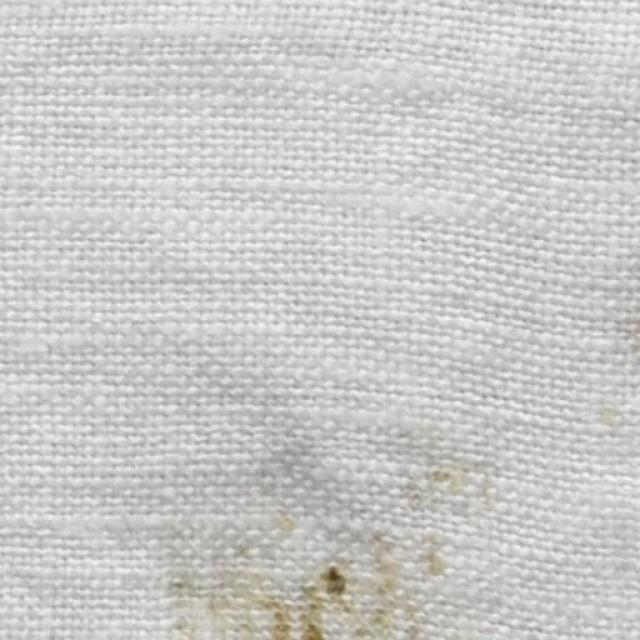Stain: (132, 457, 478, 640)
